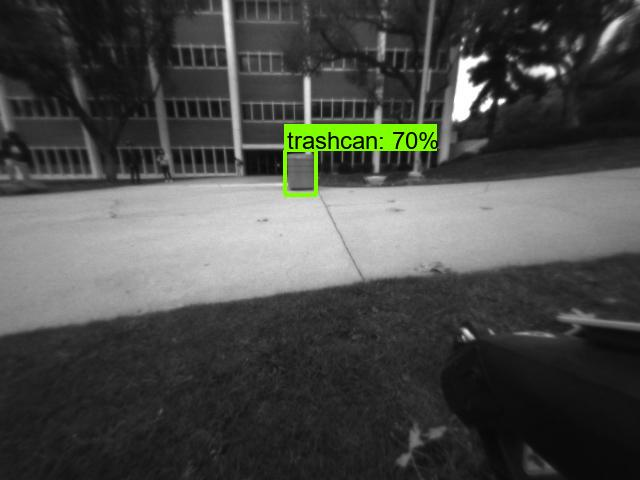trashcan: (286, 151, 317, 197)
